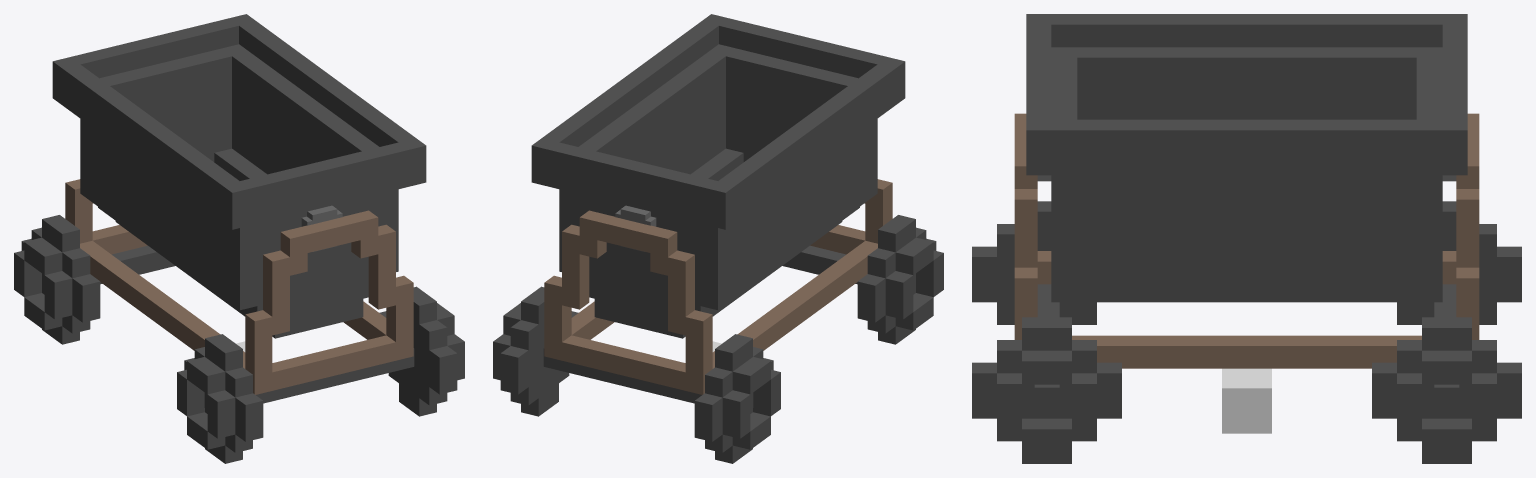
File: Minecart.fbx
The picture shows the model from 3 angles, left to right: view 1: azimuth 30°, elevation 25°; view 2: azimuth 150°, elevation 25°; view 3: azimuth 270°, elevation 25°; orthographic projection. The views are drawn at different scales.
Parts seen in each view (by area): view 1: Cart, Frame, WheelsFront, WheelsBack, Axels; view 2: Cart, Frame, WheelsBack, WheelsFront, Axels; view 3: Cart, Frame, WheelsFront, WheelsBack, CartRotationPoint, Axels.
Part boxes in pixels (x1,y1,x2,y2): Cart: (52,14,426,338); Frame: (65,179,413,394); WheelsFront: (177,286,464,463); WheelsBack: (14,215,100,344); Axels: (42,245,414,409); Cart: (531,14,905,338); Frame: (544,179,892,394); WheelsBack: (493,286,780,463); WheelsFront: (857,215,943,344); Axels: (543,245,915,409); Cart: (1026,14,1467,302); Frame: (1014,113,1479,368); WheelsFront: (972,201,1121,463); WheelsBack: (1372,201,1521,463); CartRotationPoint: (1222,368,1271,433); Axels: (1034,284,1459,410).
Size of the model in its own units: 140 by 155 by 220.
